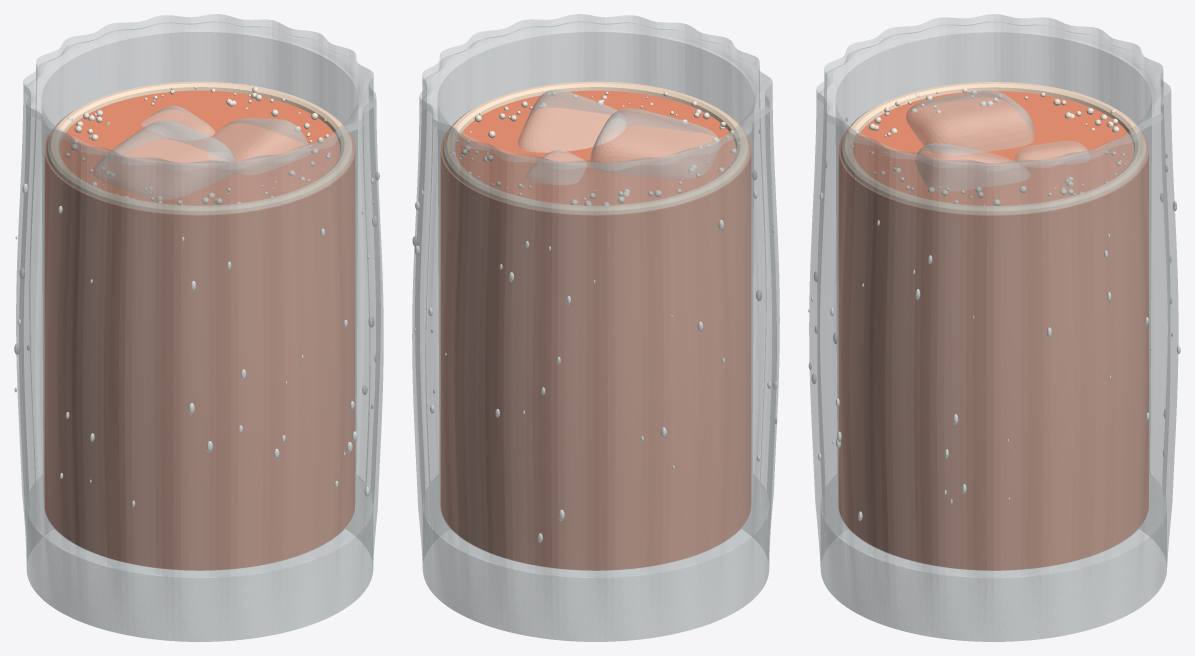
File: quickgo-cup-360.glb
The picture shows the model from 3 angles, left to right: view 1: azimuth 30°, elevation 25°; view 2: azimuth 150°, elevation 25°; view 3: azimuth 270°, elevation 25°; orthographic projection.
Visible parts, largest first — view 1: glass_outer, glass_inner, drink_volume, glass_heavy_base, ice_left, glass_rim, foam_ring, ice_right, ice_back; view 2: glass_outer, glass_inner, drink_volume, glass_heavy_base, glass_rim, foam_ring, ice_left, ice_right, ice_back; view 3: glass_outer, glass_inner, drink_volume, glass_heavy_base, glass_rim, foam_ring, ice_left, ice_right, ice_back.
Part boxes in pixels (x1=…): glass_outer: x1=16, y1=14, x2=383, y2=641; glass_inner: x1=42, y1=32, x2=357, y2=570; drink_volume: x1=44, y1=90, x2=355, y2=570; glass_heavy_base: x1=26, y1=474, x2=372, y2=641; ice_left: x1=93, y1=120, x2=234, y2=199; glass_rim: x1=24, y1=21, x2=375, y2=170; foam_ring: x1=46, y1=81, x2=353, y2=214; ice_right: x1=208, y1=118, x2=310, y2=174; ice_back: x1=141, y1=105, x2=214, y2=136; glass_outer: x1=412, y1=14, x2=779, y2=641; glass_inner: x1=438, y1=32, x2=753, y2=570; drink_volume: x1=440, y1=90, x2=751, y2=570; glass_heavy_base: x1=423, y1=474, x2=769, y2=641; glass_rim: x1=420, y1=21, x2=771, y2=170; foam_ring: x1=442, y1=81, x2=749, y2=214; ice_left: x1=590, y1=108, x2=719, y2=177; ice_right: x1=518, y1=89, x2=626, y2=152; ice_back: x1=526, y1=150, x2=585, y2=184; glass_outer: x1=809, y1=14, x2=1178, y2=641; glass_inner: x1=836, y1=32, x2=1151, y2=570; drink_volume: x1=838, y1=91, x2=1148, y2=570; glass_heavy_base: x1=821, y1=474, x2=1166, y2=641; glass_rim: x1=817, y1=21, x2=1170, y2=170; foam_ring: x1=840, y1=82, x2=1146, y2=214; ice_left: x1=906, y1=90, x2=1034, y2=155; ice_right: x1=915, y1=143, x2=1030, y2=190; ice_back: x1=1015, y1=141, x2=1090, y2=164.
Bounding box in the file's own units: 1.31 × 1.88 × 1.32.
